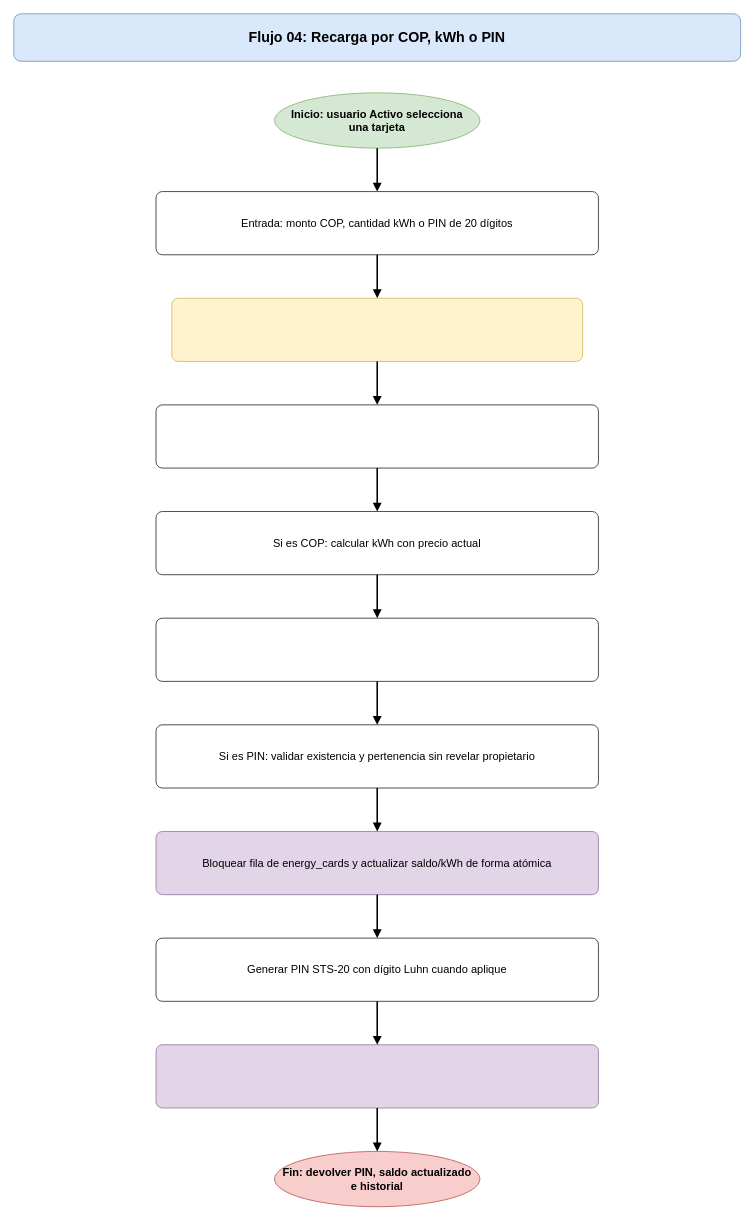
Image size: 754x1221. Some labels were removed from this diagram. Each missing label, with the centre of its shape:
"Guardar recharge_pins con kwh_price_at_time y registrar evento" goes at [376,1076].
"POST /api/recharge" goes at [377,329].
"Si es kWh: calcular COP con precio actual" goes at [376,649].
"Validar sesión, estado Activo, propiedad de tarjeta y valores positivos" goes at [376,436].
